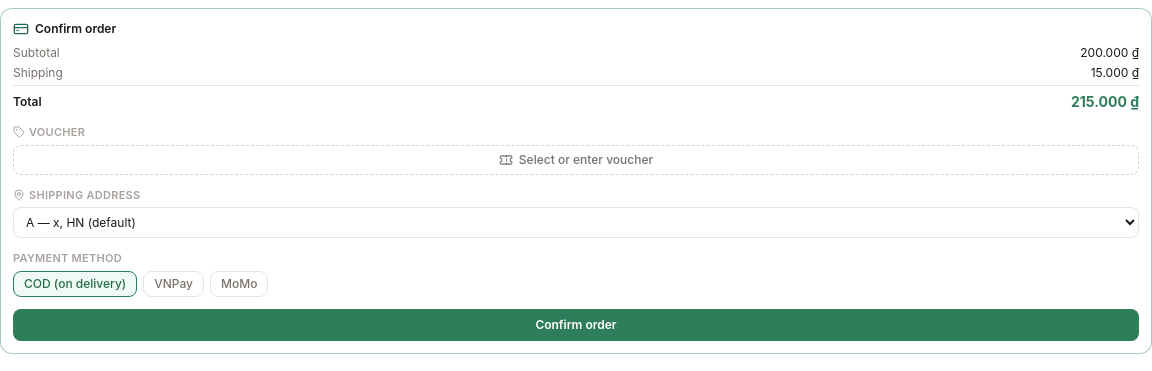
it: AiCheckoutProposalCard › shows the preview totals and places a COD order on confirm
Expected: the text "215.000 ₫" is shown, [1071,92,1139,112]
What coordinates should you click on to do the following:
click the button "Confirm order"
I would click on:
 (576, 324)
Its box is [13,308,1139,340].
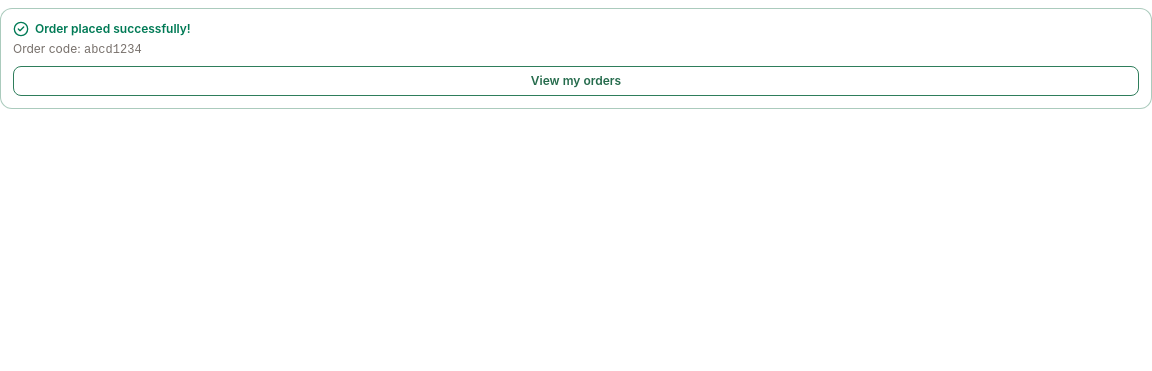
Result: the text "Order placed successfully!" is shown at [13,21,191,37]
